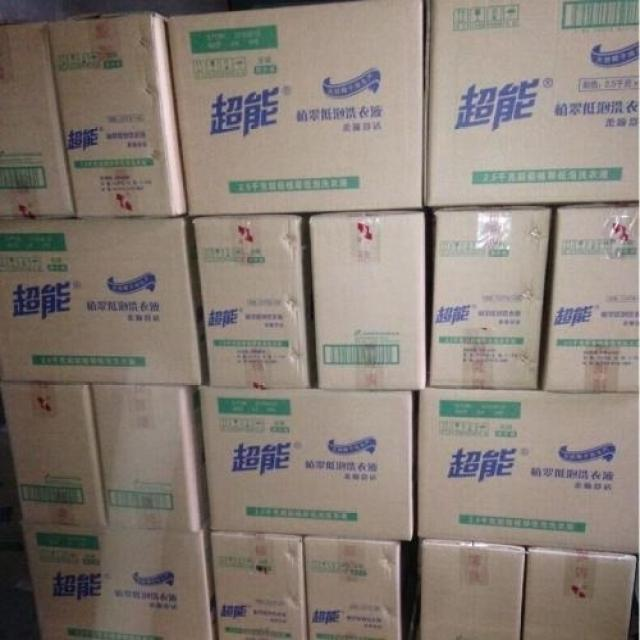Carton: (307, 210, 639, 556), (173, 0, 421, 385), (0, 221, 209, 638), (426, 0, 639, 205), (200, 390, 408, 541), (47, 16, 177, 218), (426, 213, 549, 385), (544, 205, 637, 391), (207, 533, 305, 638), (524, 553, 630, 639), (420, 546, 518, 639), (306, 541, 399, 638)
